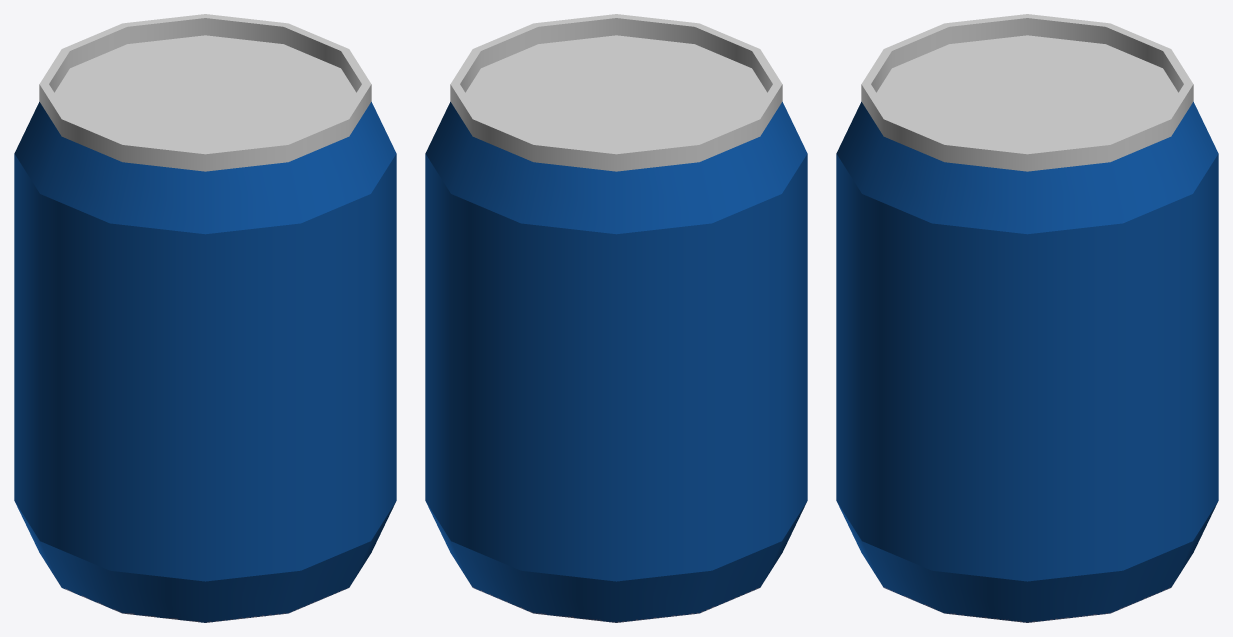
Rendered from Cans.fbx.
The picture shows the model from 3 angles, left to right: view 1: azimuth 30°, elevation 25°; view 2: azimuth 150°, elevation 25°; view 3: azimuth 270°, elevation 25°; orthographic projection.
Visible parts, largest first — view 1: Cylinder004; view 2: Cylinder004; view 3: Cylinder004.
Boxes of the visible parts, x1=… form: Cylinder004: x1=14, y1=14, x2=396, y2=622; Cylinder004: x1=425, y1=14, x2=807, y2=622; Cylinder004: x1=836, y1=14, x2=1218, y2=622.
Size of the model in its own units: 10 by 13.53 by 10.
